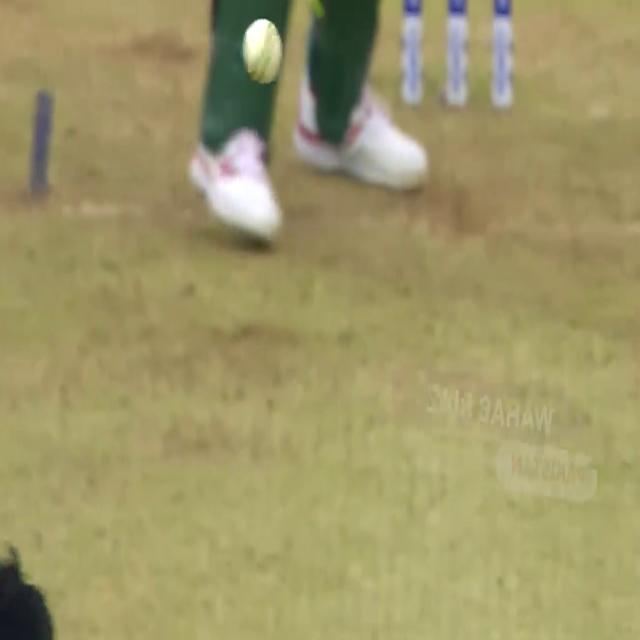ball: (241, 14, 287, 92)
